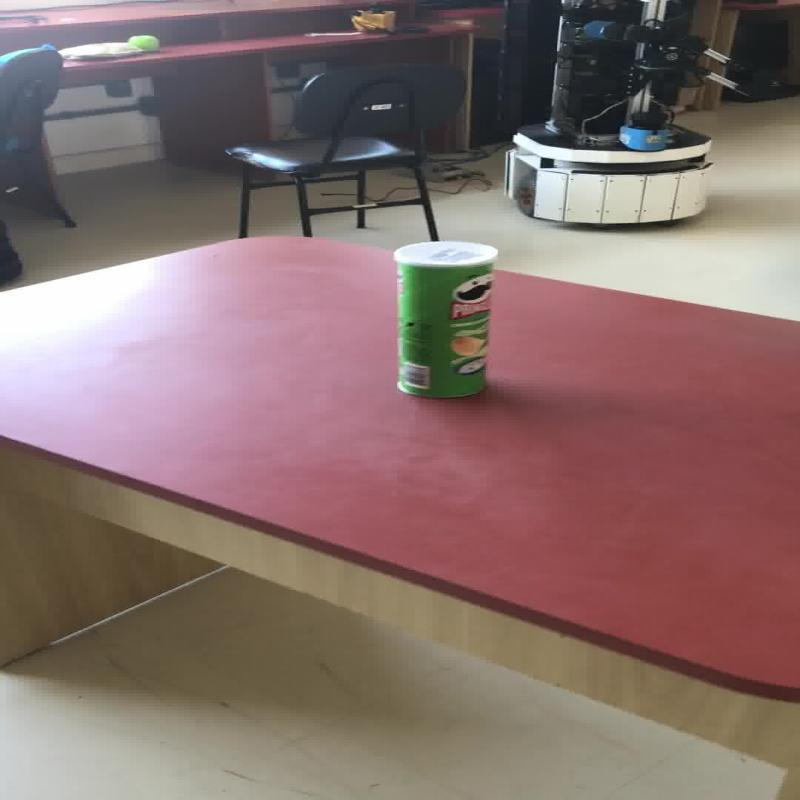pringles: (391, 240, 496, 398), (125, 34, 158, 50)
